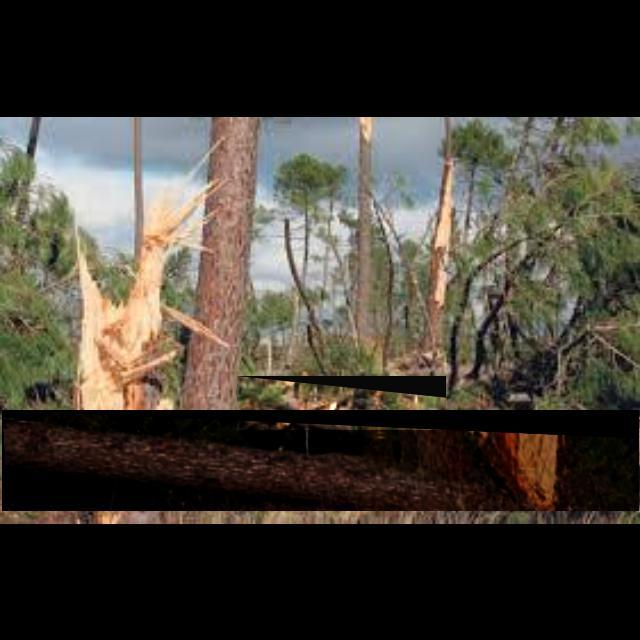fallen_tree: (2, 410, 640, 512), (237, 376, 447, 430)
